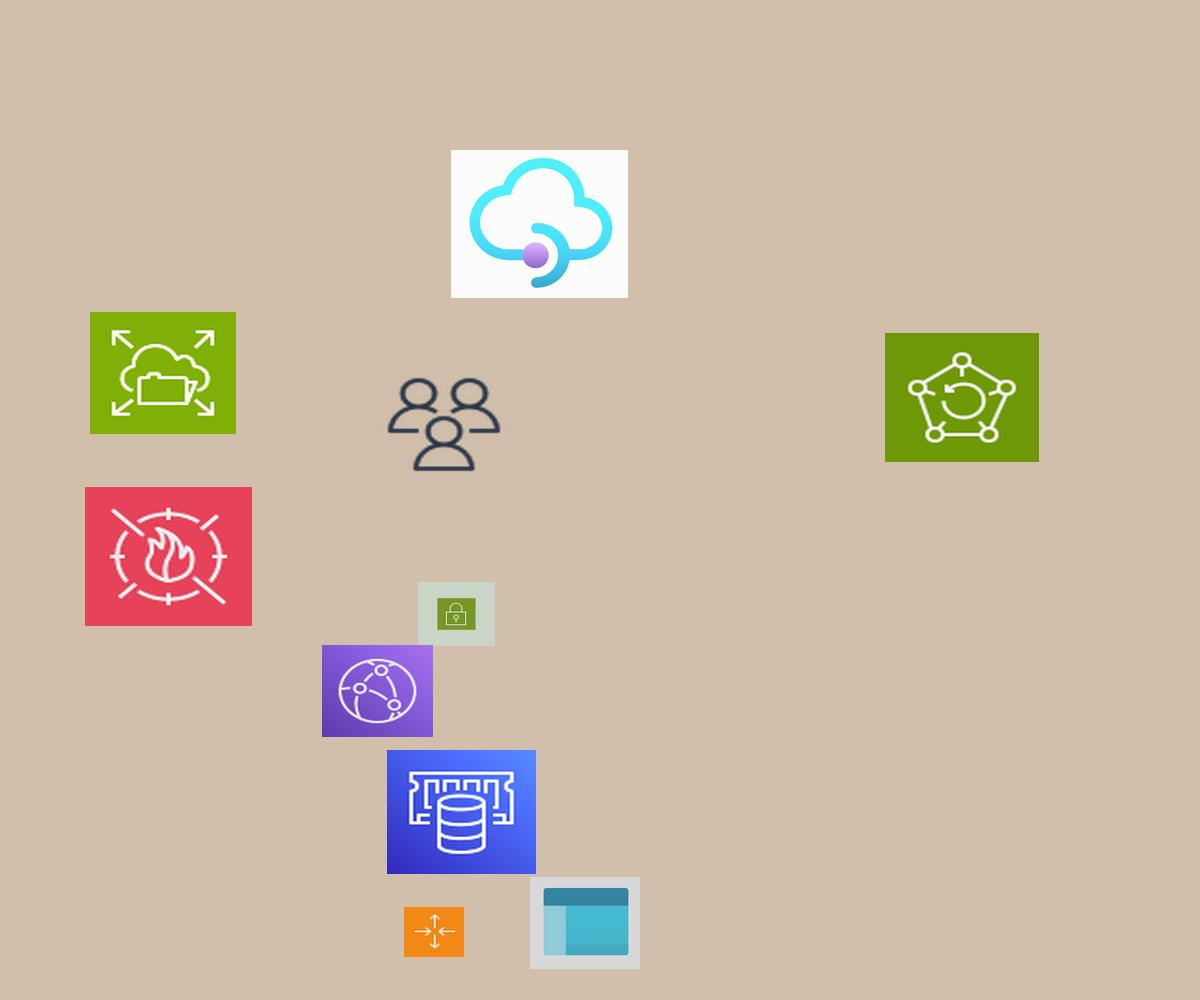AWS-Backup: (885, 333, 1039, 462)
AWS-CloudFront: (322, 645, 433, 737)
AWS-EFS: (90, 312, 236, 434)
AWS-ElastiCache: (387, 750, 536, 874)
AWS-Public-subnet: (418, 582, 495, 646)
AWS-Res_Users: (383, 374, 505, 475)
AWS-Scaling-group: (404, 907, 464, 957)
AWS-WAF: (85, 487, 252, 626)
Azure_api_gateway: (451, 150, 628, 298)
Azure_management-portal: (530, 877, 640, 969)
